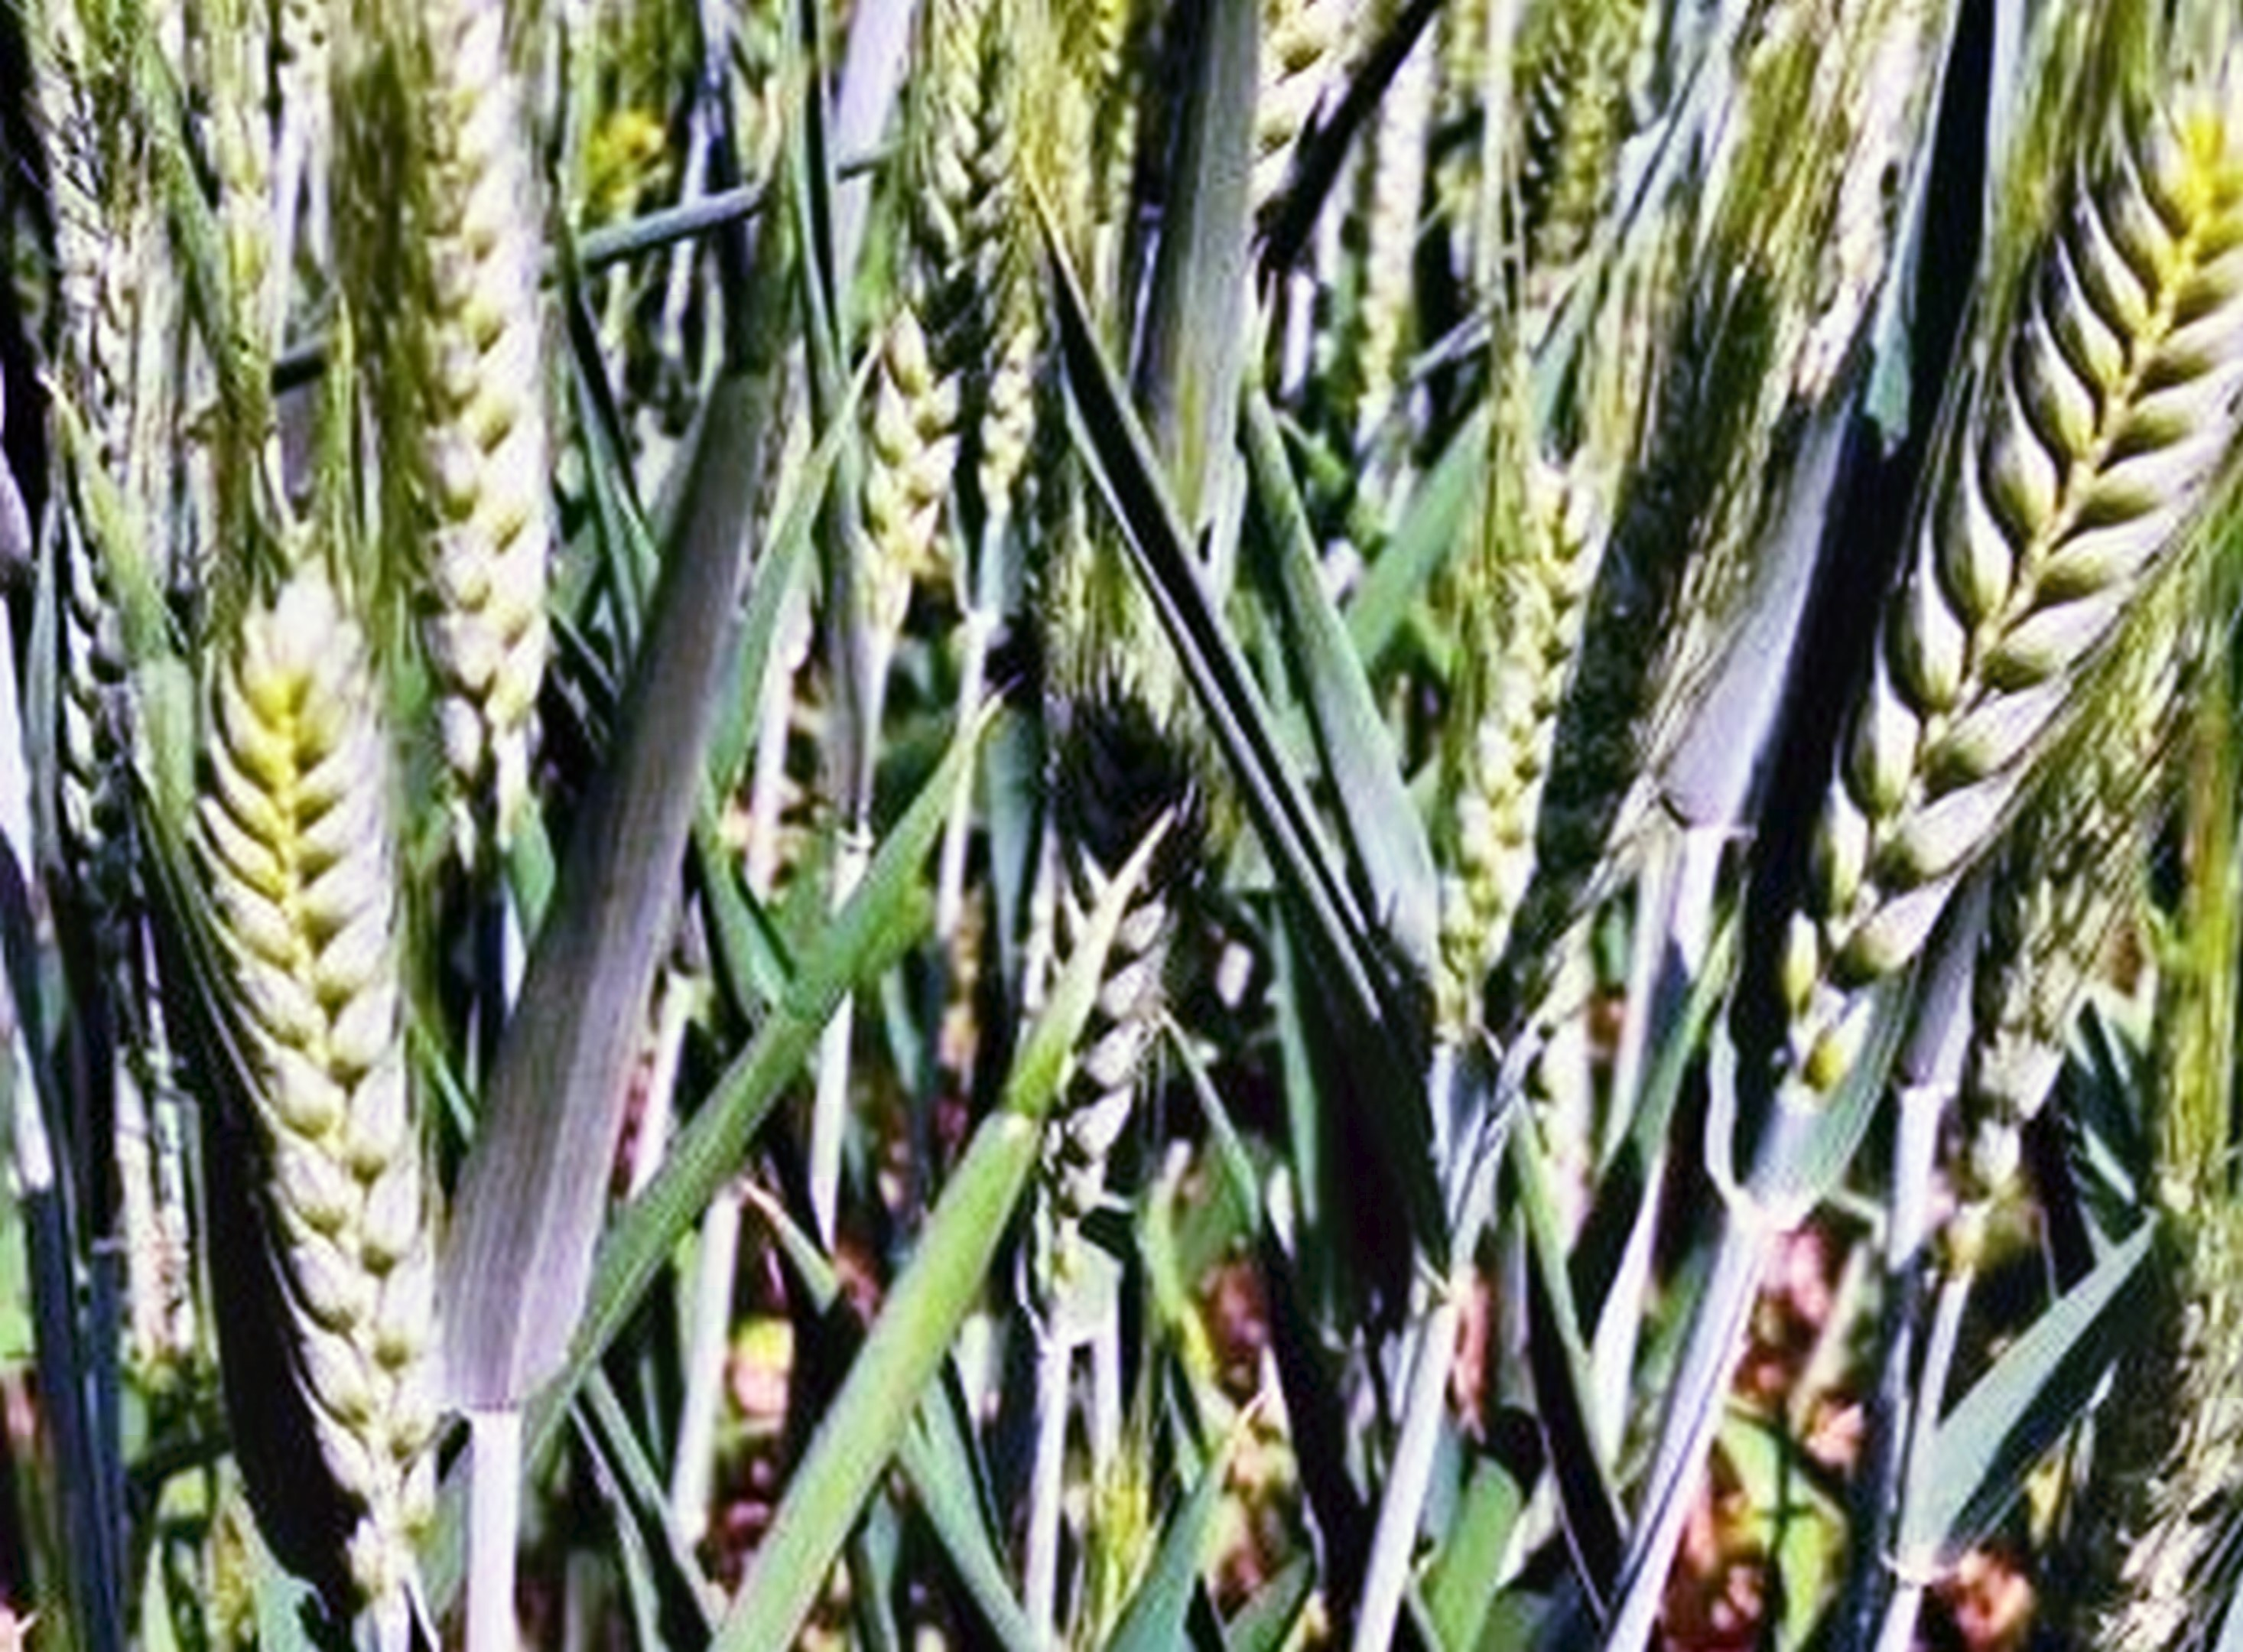Healthy Wheat: (1757, 157, 2243, 1078), (183, 571, 481, 1494)
